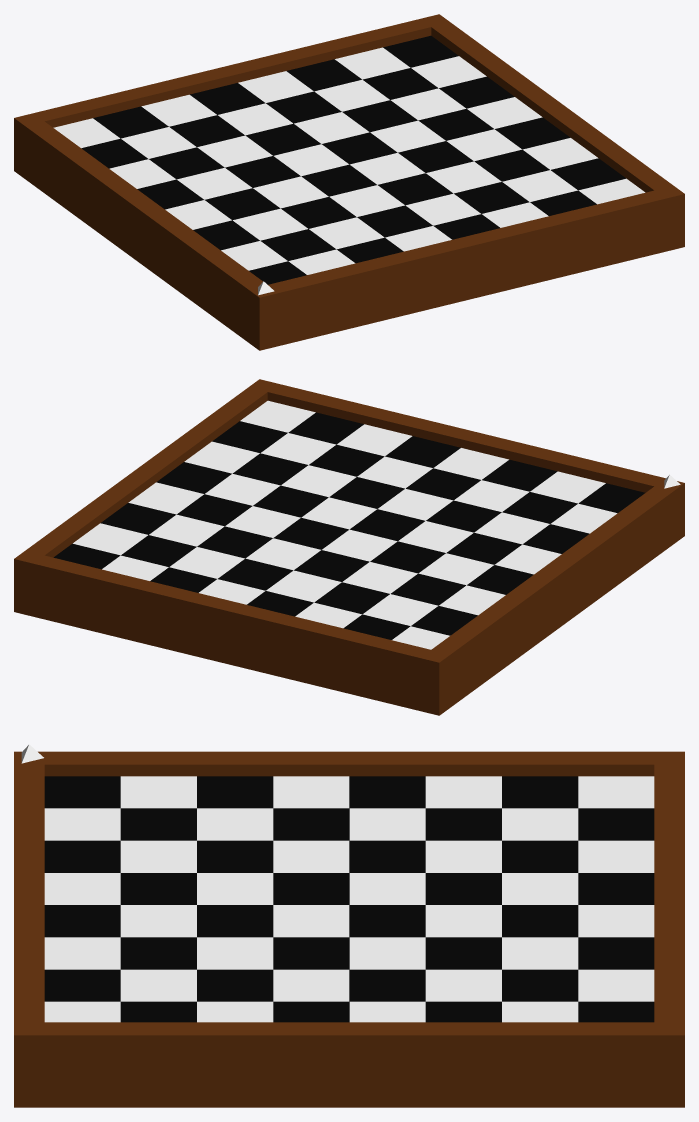
The model's file is board.obj.
The picture shows the model from 3 angles, top to bottom: view 1: azimuth 30°, elevation 25°; view 2: azimuth 150°, elevation 25°; view 3: azimuth 270°, elevation 25°; orthographic projection. The views are drawn at different scales.
Parts seen in each view (by area): view 1: BoardBox_Cube.144, tile2x6_Cube.156, tile1x2_Cube.207, tile7x1_Cube.173, tile7x7_Cube.176, tile6x3_Cube.187, tile3x2_Cube.199, tile3x4_Cube.200, tile2x7_Cube.205, tile1x1_Cube.149, tile1x3_Cube.150, tile3x1_Cube.157 (+53 smaller); view 2: BoardBox_Cube.144, tile6x2_Cube.170, tile5x6_Cube.193, tile1x3_Cube.150, tile4x2_Cube.162, tile4x4_Cube.163, tile5x7_Cube.168, tile0x1_Cube.210, tile0x7_Cube.213, tile0x6_Cube.148, tile1x5_Cube.151, tile2x6_Cube.156 (+53 smaller); view 3: BoardBox_Cube.144, tile1x1_Cube.149, tile1x5_Cube.151, tile3x1_Cube.157, tile3x5_Cube.159, tile4x0_Cube.161, tile4x2_Cube.162, tile4x4_Cube.163, tile4x6_Cube.164, tile5x1_Cube.165, tile5x5_Cube.167, tile7x1_Cube.173 (+53 smaller).
Part boxes in pixels (<box>): BoardBox_Cube.144: <box>14,14,684,350</box>; tile2x6_Cube.156: <box>474,149,549,181</box>; tile1x2_Cube.207: <box>309,217,384,249</box>; tile7x1_Cube.173: <box>93,106,168,138</box>; tile7x7_Cube.176: <box>383,35,458,67</box>; tile6x3_Cube.187: <box>218,103,292,135</box>; tile3x2_Cube.199: <box>253,176,328,208</box>; tile3x4_Cube.200: <box>350,152,425,184</box>; tile2x7_Cube.205: <box>522,138,598,169</box>; tile1x1_Cube.149: <box>260,229,336,260</box>; tile1x3_Cube.150: <box>357,205,432,237</box>; tile3x1_Cube.157: <box>205,188,280,220</box>; BoardBox_Cube.144: <box>14,379,684,715</box>; tile6x2_Cube.170: <box>314,582,389,614</box>; tile5x6_Cube.193: <box>149,514,224,546</box>; tile1x3_Cube.150: <box>406,468,480,500</box>; tile4x2_Cube.162: <box>370,541,445,573</box>; tile4x4_Cube.163: <box>273,517,348,549</box>; tile5x7_Cube.168: <box>100,503,176,534</box>; tile0x1_Cube.210: <box>530,471,605,503</box>; tile0x7_Cube.213: <box>240,400,315,432</box>; tile0x6_Cube.148: <box>288,412,363,444</box>; tile1x5_Cube.151: <box>309,444,384,476</box>; tile2x6_Cube.156: <box>233,453,308,485</box>; BoardBox_Cube.144: <box>14,751,684,1107</box>; tile1x1_Cube.149: <box>120,808,196,840</box>; tile1x5_Cube.151: <box>120,937,196,969</box>; tile3x1_Cube.157: <box>273,808,349,840</box>; tile3x5_Cube.159: <box>273,937,349,969</box>; tile4x0_Cube.161: <box>349,776,425,808</box>; tile4x2_Cube.162: <box>349,840,425,872</box>; tile4x4_Cube.163: <box>349,905,425,937</box>; tile4x6_Cube.164: <box>349,969,425,1001</box>; tile5x1_Cube.165: <box>425,808,501,840</box>; tile5x5_Cube.167: <box>425,937,501,969</box>; tile7x1_Cube.173: <box>578,808,654,840</box>.
Bounding box in the file's own units: 2.2 × 0.3125 × 2.2.
